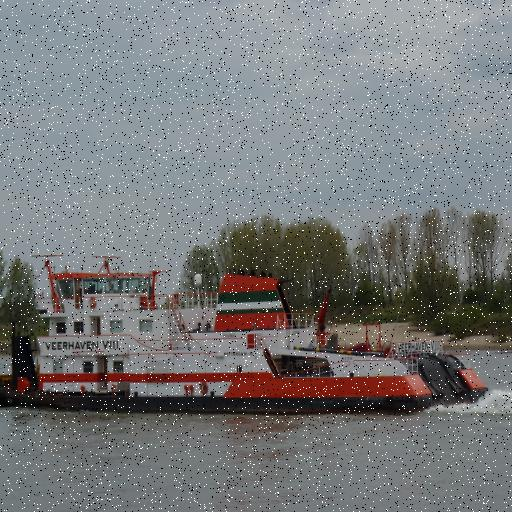tugboat: (1, 250, 493, 425)
